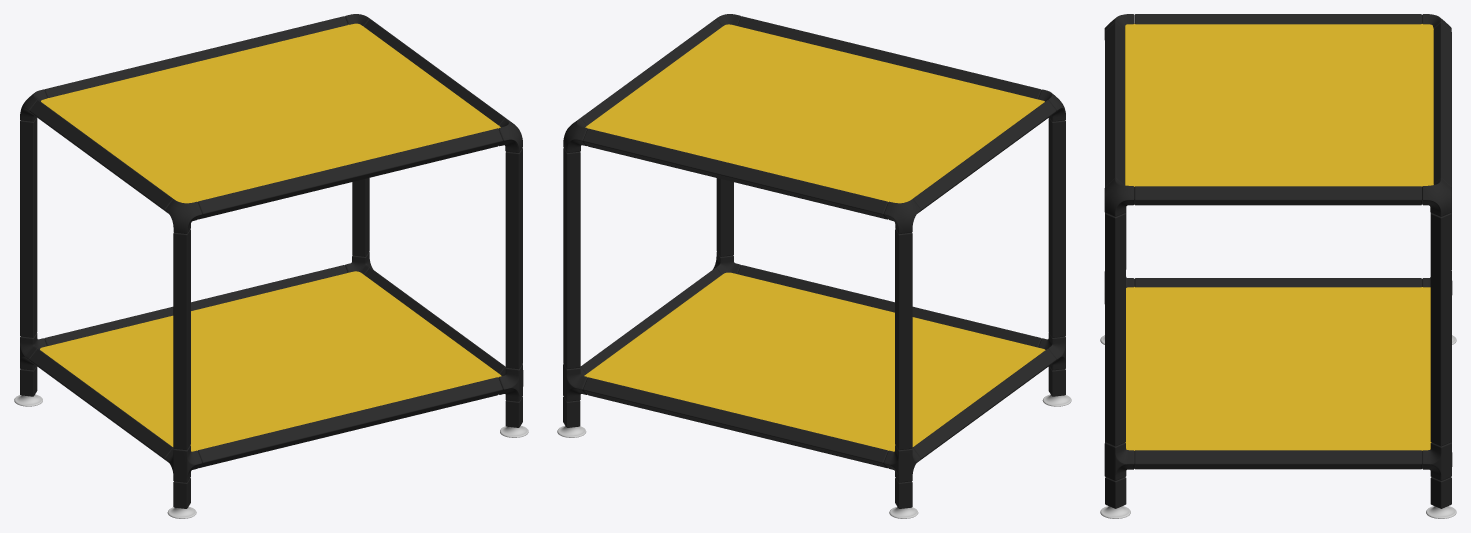
3 renders of one model, left to right at view 1: azimuth 30°, elevation 25°; view 2: azimuth 150°, elevation 25°; view 3: azimuth 270°, elevation 25°, orthographic. The views are drawn at different scales.
Visible parts, largest first — view 1: 479x374x329; view 2: 479x374x329; view 3: 479x374x329.
Boxes of the visible parts, x1,y1,x2,y2 form: 479x374x329: (14, 14, 528, 518); 479x374x329: (557, 14, 1071, 518); 479x374x329: (1100, 14, 1456, 518).
Size of the model in its own units: 0.5689 by 0.4683 by 0.4632.
